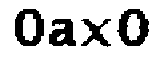0: (11, 6, 45, 50), (117, 6, 150, 49)
a: (49, 16, 78, 49)
x: (80, 16, 114, 51)
